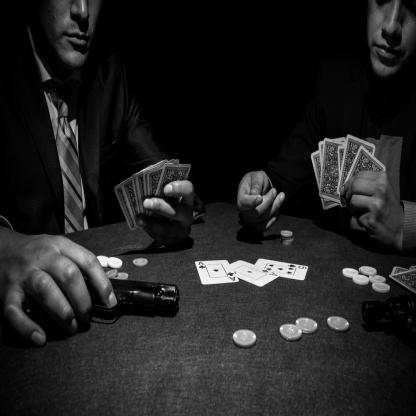Handgun: (19, 269, 181, 323)
